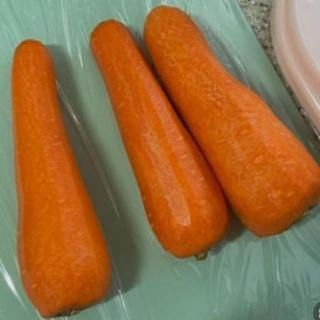carrot: (142, 3, 320, 239), (86, 16, 233, 262), (11, 35, 114, 318)
